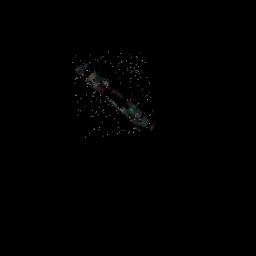boat: (70, 46, 156, 139)
